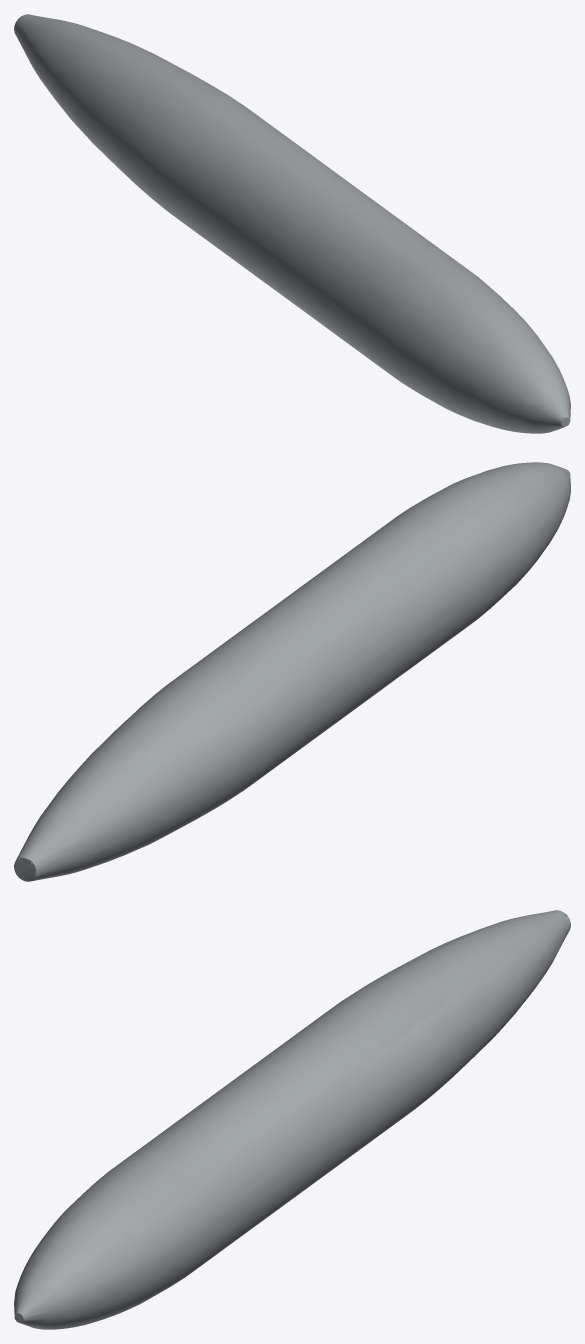
File: tank370gal.glb
The picture shows the model from 3 angles, top to bottom: view 1: azimuth 30°, elevation 25°; view 2: azimuth 150°, elevation 25°; view 3: azimuth 330°, elevation 25°; orthographic projection.
Visible parts, largest first — view 1: airframe; view 2: airframe; view 3: airframe.
Part boxes in pixels (bbox=[...]): airframe: bbox=[14, 14, 570, 433]; airframe: bbox=[14, 462, 570, 881]; airframe: bbox=[14, 910, 570, 1329].
Bounding box in the file's own units: 0.6739 × 0.6733 × 5.56.
Materials: 1 (1 with a texture image).
